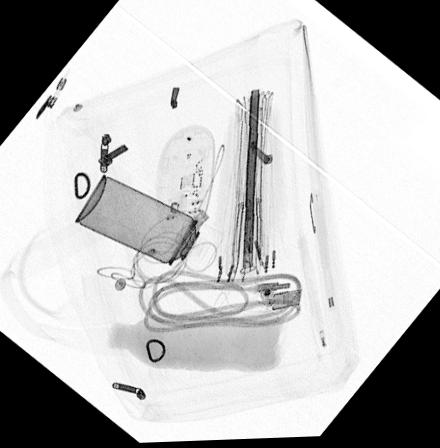Sprayer: (73, 175, 224, 279)
